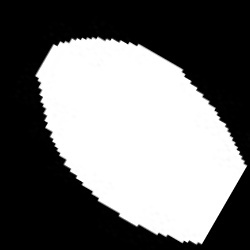spot: (37, 39, 246, 243)
